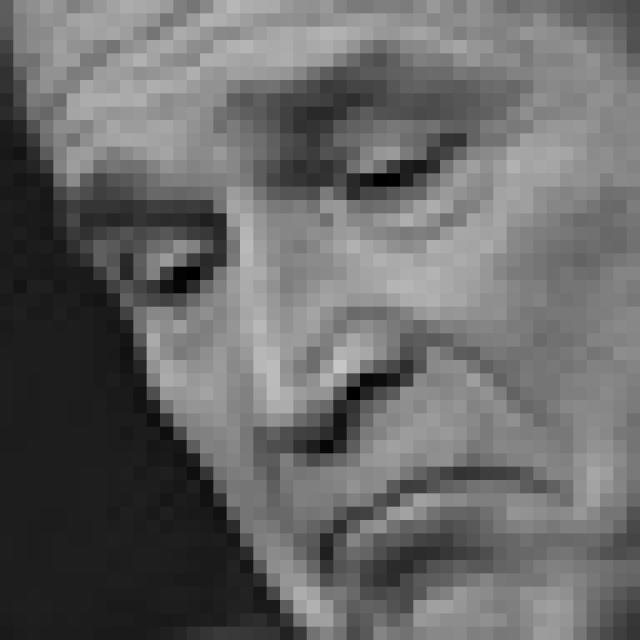sad: (71, 31, 578, 636)
